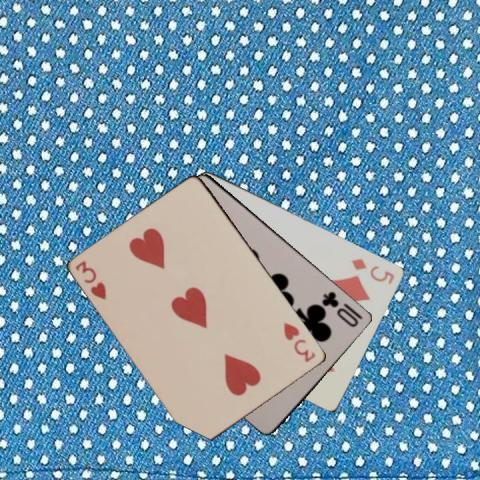10c: (319, 288, 365, 329)
3h: (281, 319, 317, 364), (72, 258, 108, 301)
5d: (349, 255, 396, 286)
